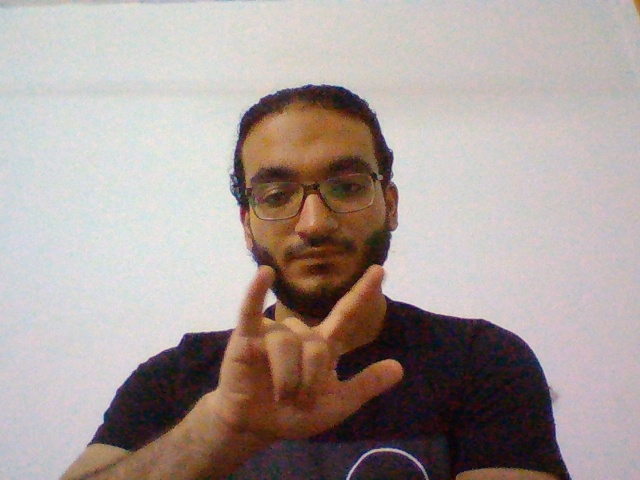I Love Yoy: (201, 254, 429, 447)
